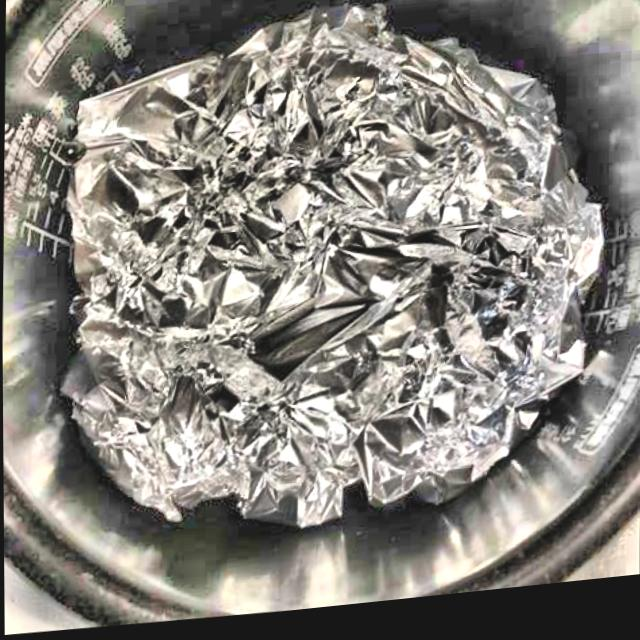Foil: (43, 0, 613, 564)
